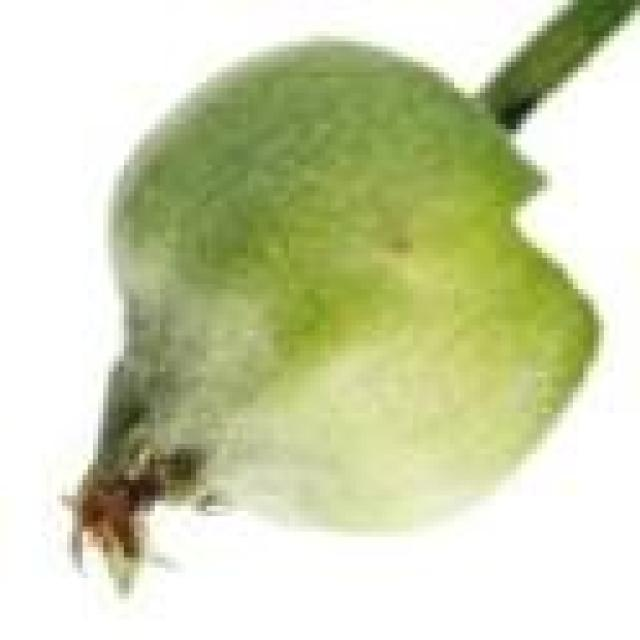Rotten Apple: (75, 13, 606, 581)
